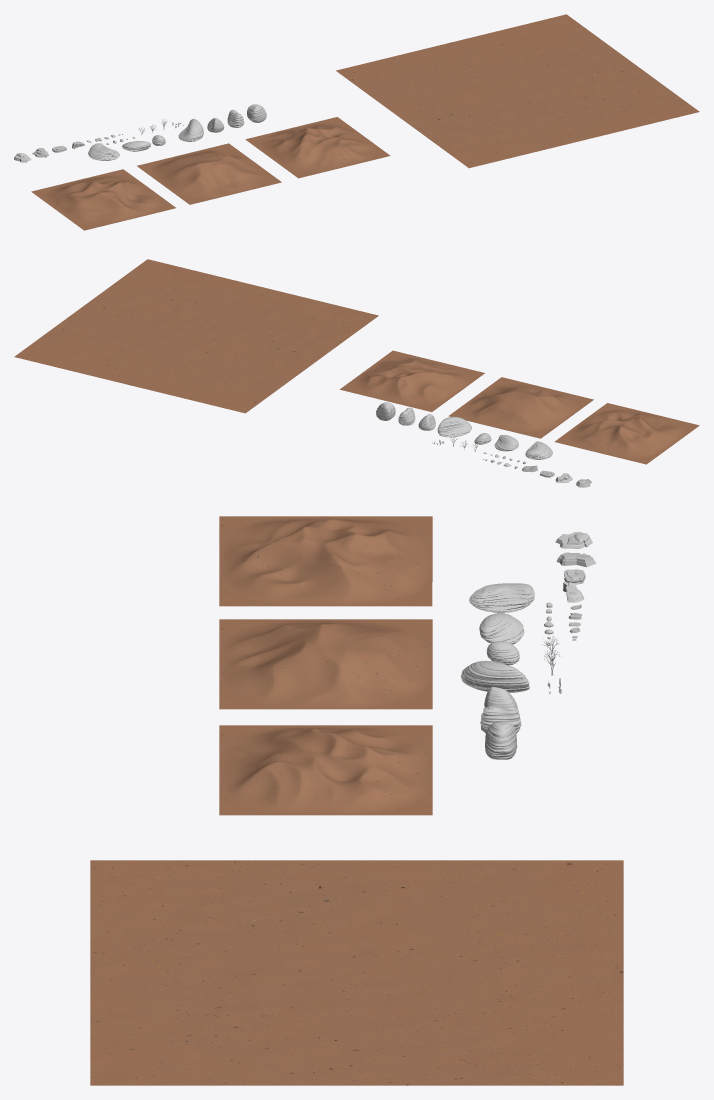
Rendered from Nature.fbx.
The picture shows the model from 3 angles, top to bottom: view 1: azimuth 30°, elevation 25°; view 2: azimuth 150°, elevation 25°; view 3: azimuth 270°, elevation 25°; orthographic projection. The views are drawn at different scales.
Visible parts, largest first — view 1: ground_plane, dune_3, dune_2, dune_1, sandrock_3, sandrock_4; view 2: ground_plane, dune_3, dune_1, dune_2, sandrock_3, sandrock_4; view 3: ground_plane, dune_2, dune_3, dune_1, sandrock_3, sandrock_4, sandrock_1, sandrock_7.
Boxes of the visible parts, bbox=[...] form: ground_plane: bbox=[336, 14, 699, 168]; dune_3: bbox=[245, 117, 390, 178]; dune_2: bbox=[137, 143, 281, 204]; dune_1: bbox=[31, 169, 175, 230]; sandrock_3: bbox=[178, 118, 203, 141]; sandrock_4: bbox=[88, 143, 119, 160]; ground_plane: bbox=[14, 259, 378, 413]; dune_3: bbox=[340, 350, 484, 411]; dune_1: bbox=[554, 403, 699, 464]; dune_2: bbox=[448, 377, 593, 438]; sandrock_3: bbox=[437, 416, 471, 437]; sandrock_4: bbox=[525, 441, 552, 459]; ground_plane: bbox=[90, 860, 623, 1085]; dune_2: bbox=[219, 619, 432, 709]; dune_3: bbox=[219, 725, 432, 815]; dune_1: bbox=[219, 516, 432, 606]; sandrock_3: bbox=[461, 660, 529, 692]; sandrock_4: bbox=[469, 583, 534, 613]; sandrock_1: bbox=[479, 613, 524, 644]; sandrock_7: bbox=[485, 722, 517, 759].
Bounding box in the file's own units: 25254 × 663 × 10000.
